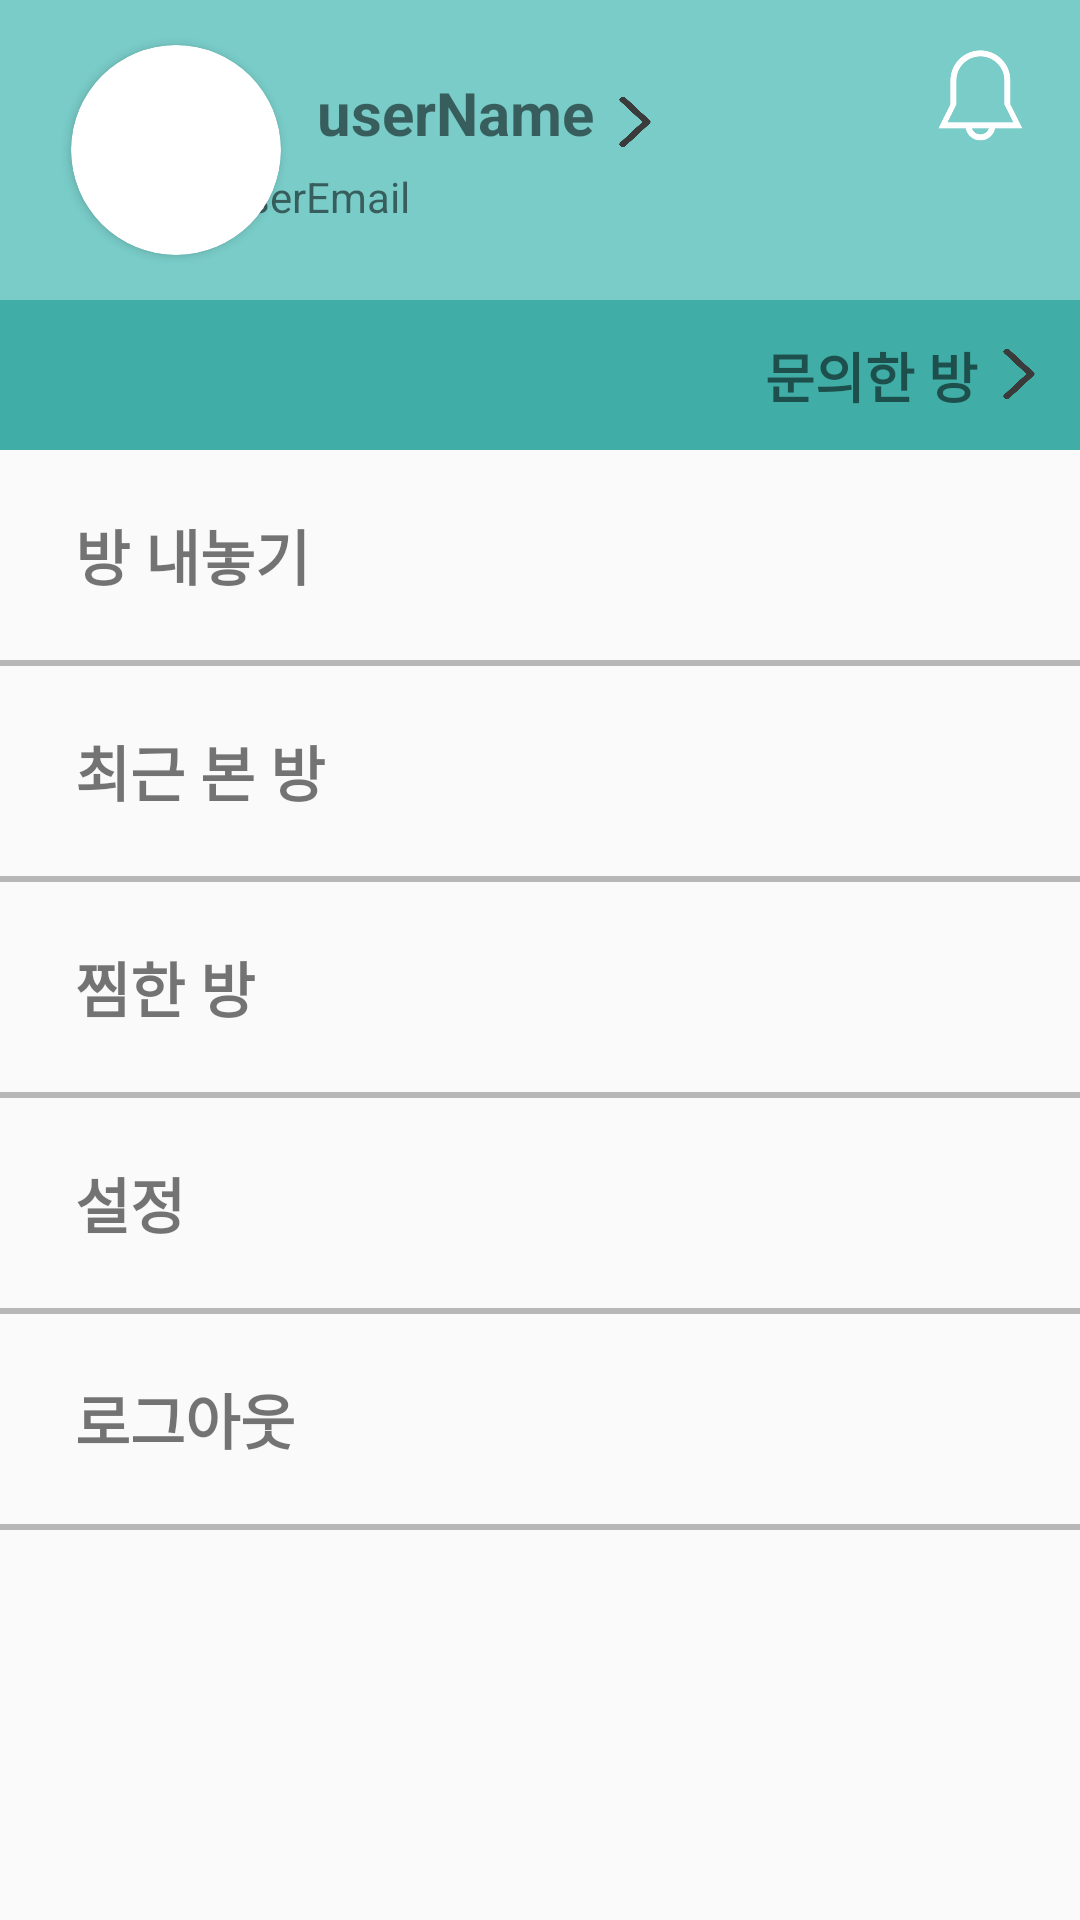

Icons on this 1080px×1920px Android screen, each with its box as (x1, y1, x2, y2):
alram: (939, 50, 1022, 141)
move: (619, 97, 651, 147), (1003, 349, 1035, 399)
